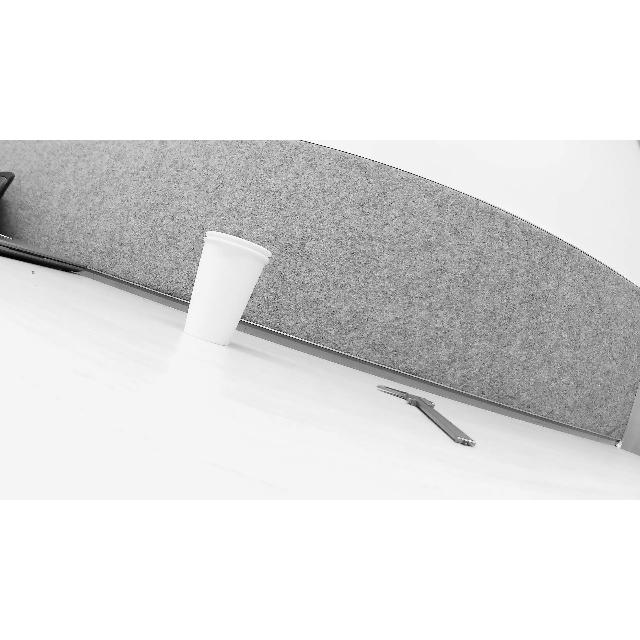targets: (181, 229, 273, 349), (376, 376, 480, 452)
